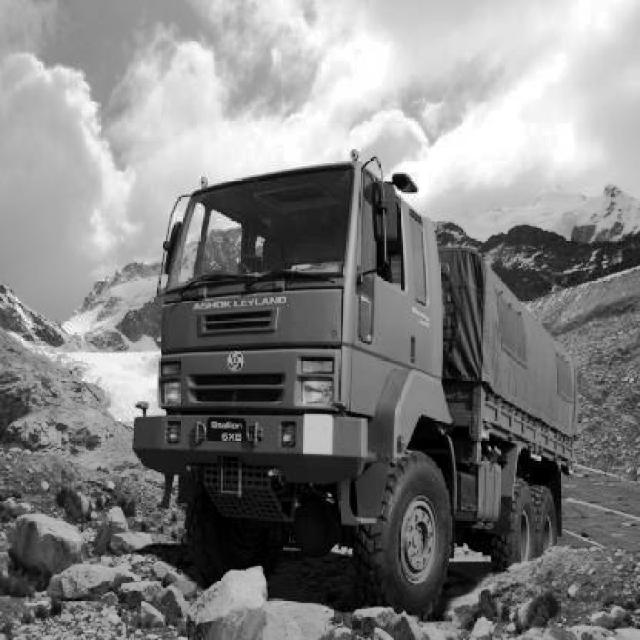HCV: (137, 169, 585, 588)
